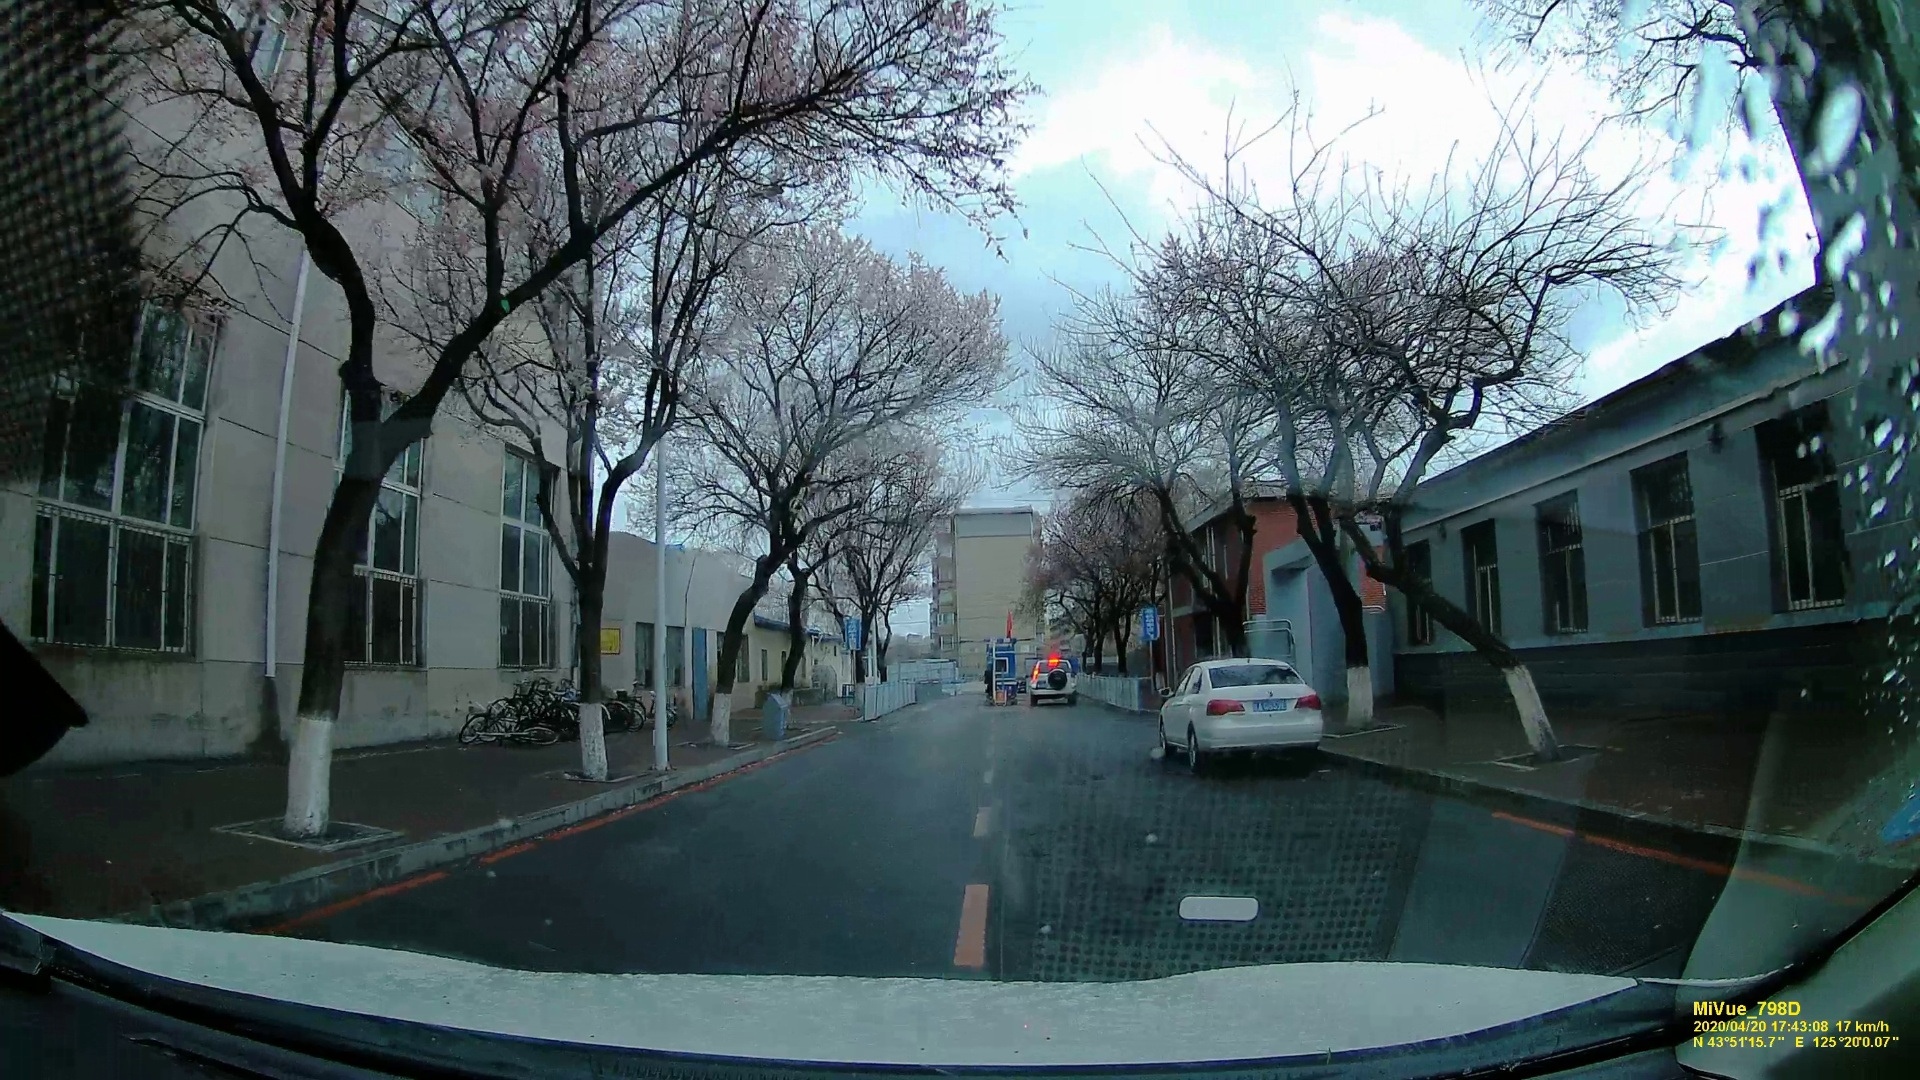vehicle: (1154, 654, 1328, 767), (1025, 658, 1081, 705)
